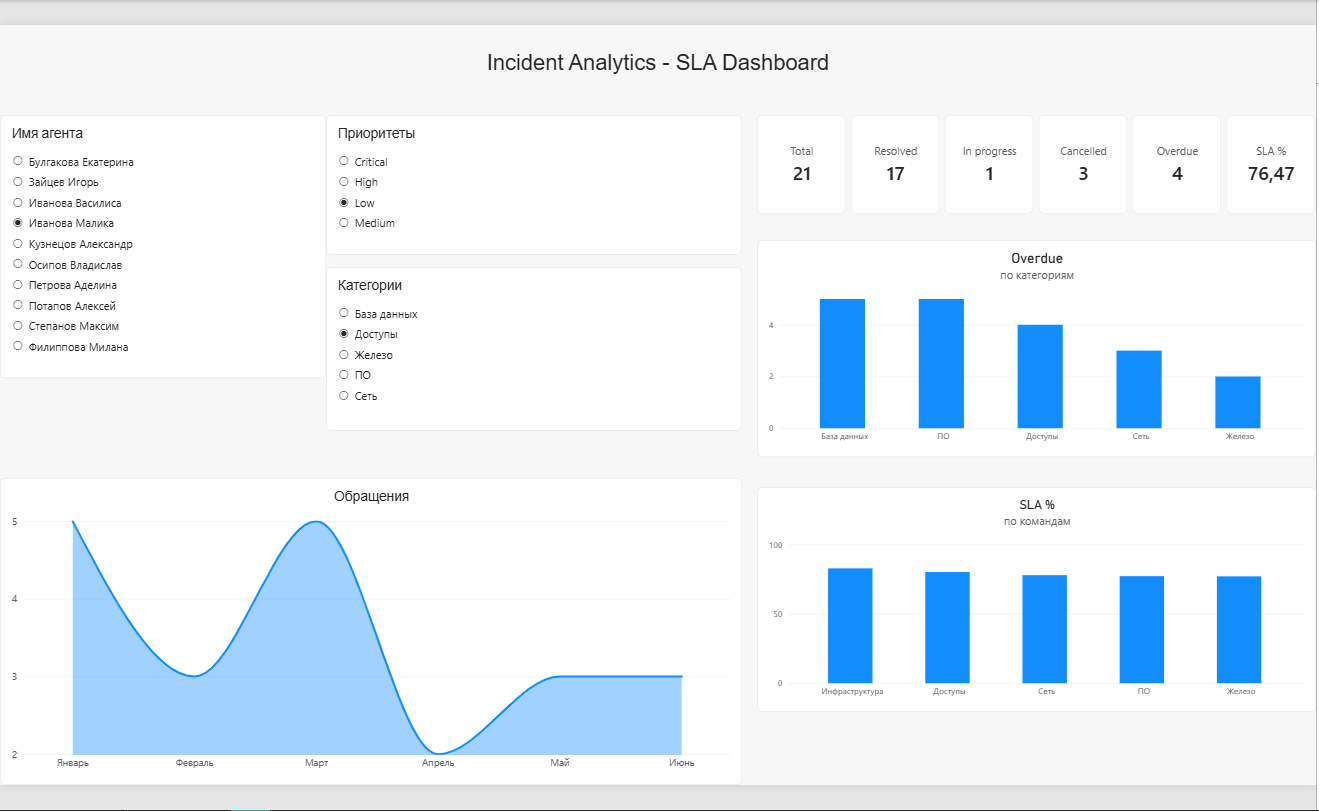

The page's visual inventory and layout, read from the dashboard file:
{"tool":"powerbi","page":{"name":"Страница 1","canvas":[1920,1080],"ordinal":0},"visuals":[{"type":"cardVisual","fields":{"Data":["incidents.Total","incidents.Resolved","incidents.In progress","incidents.Cancelled","incidents.Overdue","incidents.SLA %"]},"box":[1104.4,102.1,815.6,144.4],"z":0},{"type":"clusteredColumnChart","title":"Просрочки","fields":{"Category":["categories.category_name"],"Y":["incidents.Overdue"]},"box":[1104.4,284.5,815.6,316.6],"z":1000},{"type":"listSlicer","title":"Приоритеты","fields":{"Values":["priorities.priority_name"]},"box":[475.6,102.1,606.9,204.3],"z":2000},{"type":"clusteredColumnChart","title":"SLA %","fields":{"Category":["teams.team_name"],"Y":["incidents.SLA %"]},"box":[1104.4,644.9,815.6,328.3],"z":2001},{"type":"listSlicer","title":"Имя агента","fields":{"Values":["agents.agent_name"]},"box":[0,102.1,475.6,383.7],"z":2002},{"type":"stackedAreaChart","title":"Обращения","fields":{"Category":["incidents.created_at.Изменение.Иерархия дат.Месяц","incidents.created_at.Изменение.Иерархия дат.День"],"Y":["incidents.Total"]},"box":[0,631.7,1082.6,447.9],"z":2003},{"type":"listSlicer","title":"Категории","fields":{"Values":["categories.category_name"]},"box":[475.6,323.9,606.9,239.3],"z":2004},{"type":"textbox","box":[0,7.3,1920,37.9],"z":2005}]}

Visuals, with their boxes on the page's 1920x1080 design canvas (x1, y1, x2, y2). These are canvas units, not pixel positions in the 1319x811 screenshot, which may show the page scaled, cropped or inside an application window:
cardVisual - incidents.Total x incidents.Resolved: {"x1": 1104, "y1": 102, "x2": 1920, "y2": 246}
"Просрочки" clusteredColumnChart: {"x1": 1104, "y1": 284, "x2": 1920, "y2": 601}
"Приоритеты" listSlicer: {"x1": 476, "y1": 102, "x2": 1082, "y2": 306}
"SLA %" clusteredColumnChart: {"x1": 1104, "y1": 645, "x2": 1920, "y2": 973}
"Имя агента" listSlicer: {"x1": 0, "y1": 102, "x2": 476, "y2": 486}
"Обращения" stackedAreaChart: {"x1": 0, "y1": 632, "x2": 1083, "y2": 1080}
"Категории" listSlicer: {"x1": 476, "y1": 324, "x2": 1082, "y2": 563}
textbox: {"x1": 0, "y1": 7, "x2": 1920, "y2": 45}
